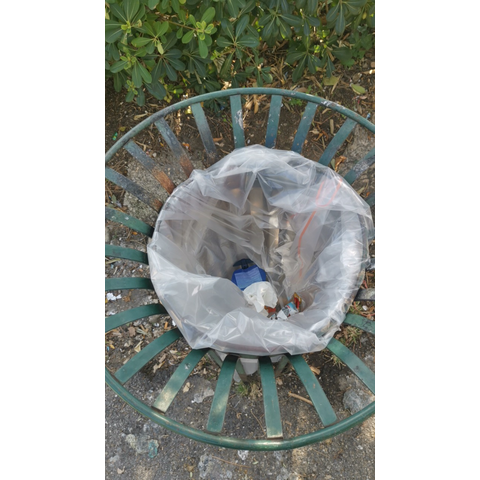poubelle: (103, 83, 377, 448)
